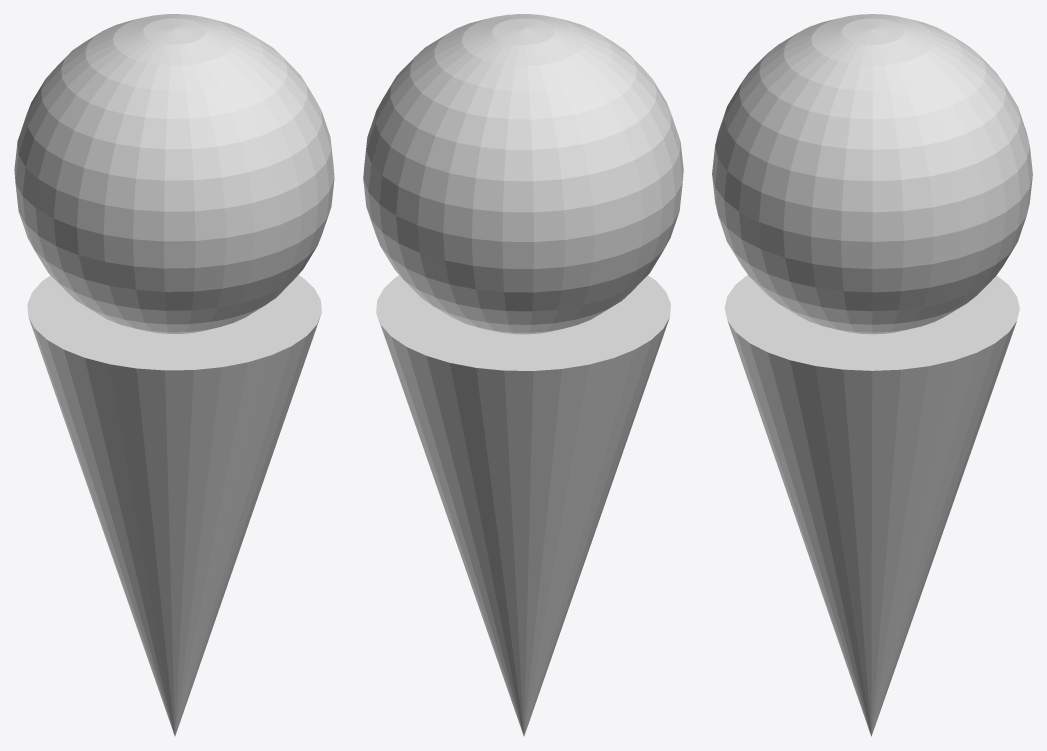
Rendered from pin.obj.
3 views of the same model, side by side, from view 1: azimuth 30°, elevation 25°; view 2: azimuth 150°, elevation 25°; view 3: azimuth 270°, elevation 25° (orthographic).
Parts seen in each view (by area): view 1: 球; view 2: 球; view 3: 球.
Boxes of the visible parts, x1,y1,x2,y2 form: 球: (14, 14, 334, 736); 球: (363, 14, 683, 736); 球: (712, 14, 1032, 736).
Size of the model in its own units: 0.9954 by 2.42 by 0.9954.
1 material, 1 textured.
